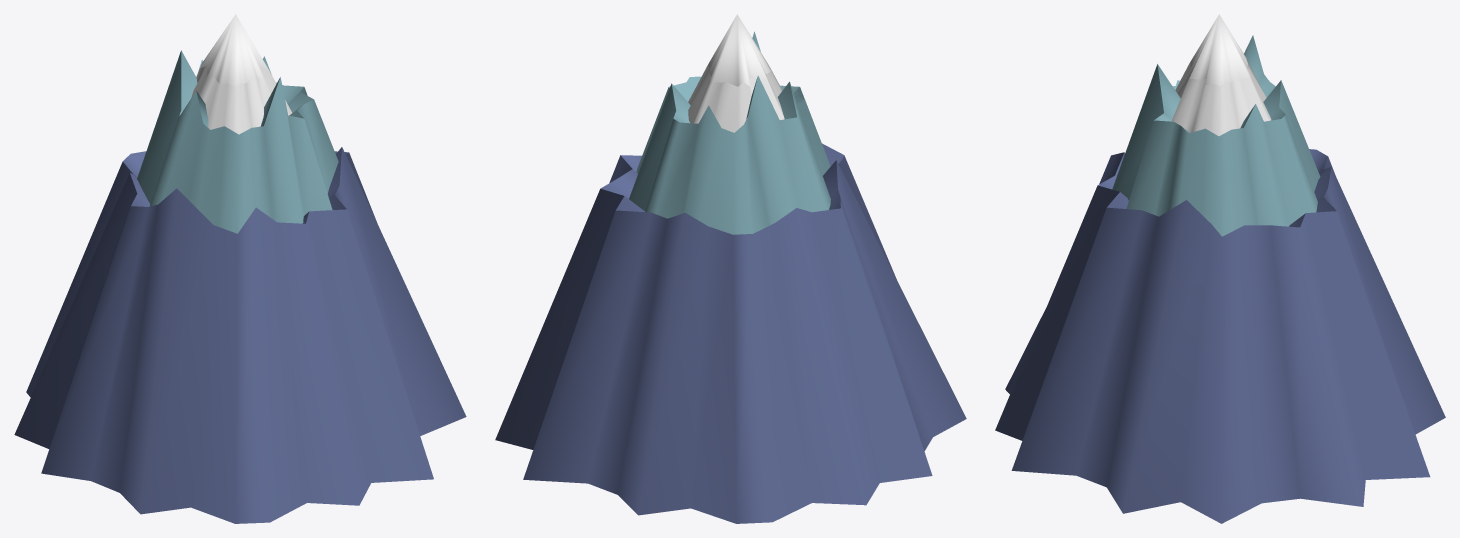
The model's file is nevadoModel.glb.
3 renders of one model, left to right at view 1: azimuth 30°, elevation 25°; view 2: azimuth 150°, elevation 25°; view 3: azimuth 270°, elevation 25°, orthographic.
Visible parts, largest first — view 1: pCylinder6.002; view 2: pCylinder6.002; view 3: pCylinder6.002.
Part boxes in pixels (bbox=[...]): pCylinder6.002: bbox=[14, 14, 466, 523]; pCylinder6.002: bbox=[495, 14, 966, 523]; pCylinder6.002: bbox=[995, 14, 1445, 523].
Size of the model in its own units: 0.489 by 0.4841 by 0.4812.
